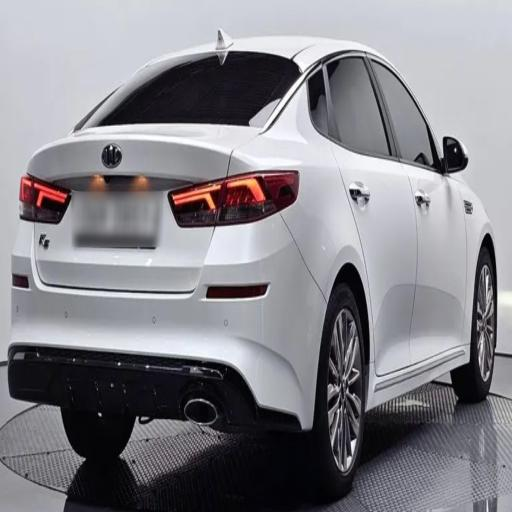dent: (362, 256, 487, 398)
